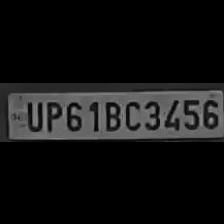1: (84, 98, 100, 132)
3: (142, 96, 160, 130)
4: (161, 95, 179, 129)
5: (180, 94, 198, 130)
6: (62, 97, 84, 132), (200, 95, 220, 129)
B: (100, 97, 120, 130)
C: (122, 96, 142, 130)
P: (44, 97, 62, 132)
U: (23, 98, 43, 132)
